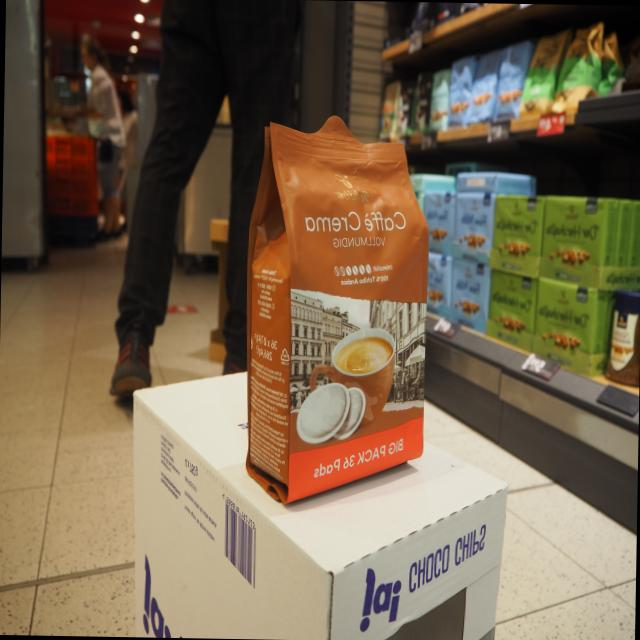CC Vollmundig: (242, 109, 435, 527)
